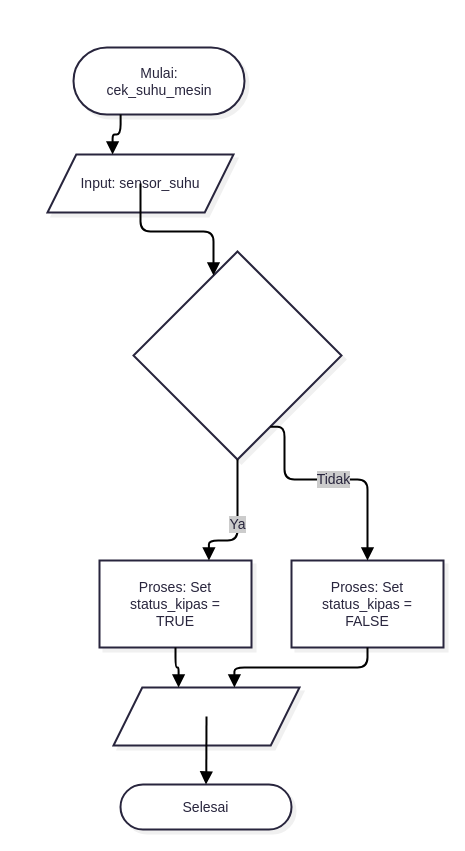
This 465x851 diagram has some shape labels left out. Each missing label, with the centre of its shape:
"Apakah sensor_suhu >= 100?" belongs at point (239, 357).
"Output: return status_kipas" belongs at point (208, 718).
